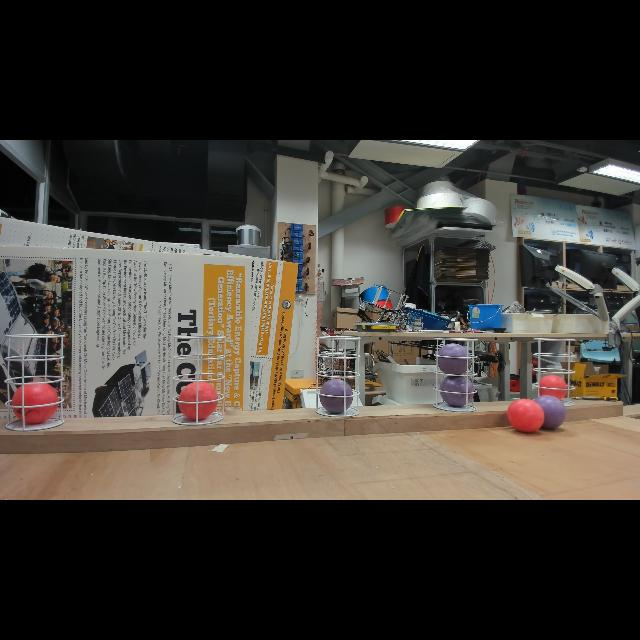P: (319, 378, 353, 414), (530, 396, 566, 430), (440, 374, 474, 408), (436, 344, 472, 376)
R: (11, 380, 59, 426), (178, 381, 218, 421), (506, 398, 546, 434), (538, 375, 568, 403)
S: (5, 334, 66, 432), (171, 334, 227, 426), (315, 336, 361, 418), (433, 337, 479, 413), (532, 337, 576, 407)
